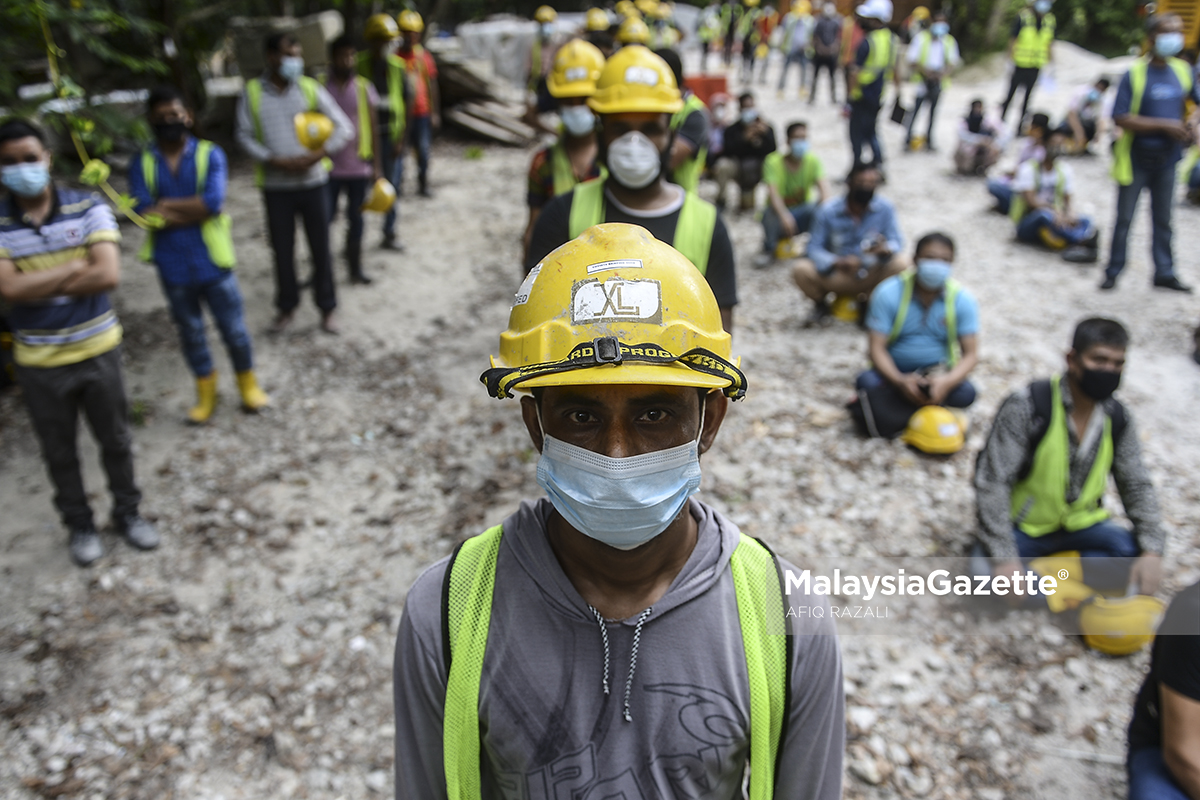No Safety Helmet: (1055, 305, 1142, 418), (1, 110, 60, 218), (124, 81, 205, 159), (243, 20, 314, 98), (908, 226, 959, 301), (837, 153, 890, 218), (782, 109, 816, 173)
Safety Helmet: (467, 210, 767, 567), (583, 38, 693, 192), (530, 27, 603, 134)
